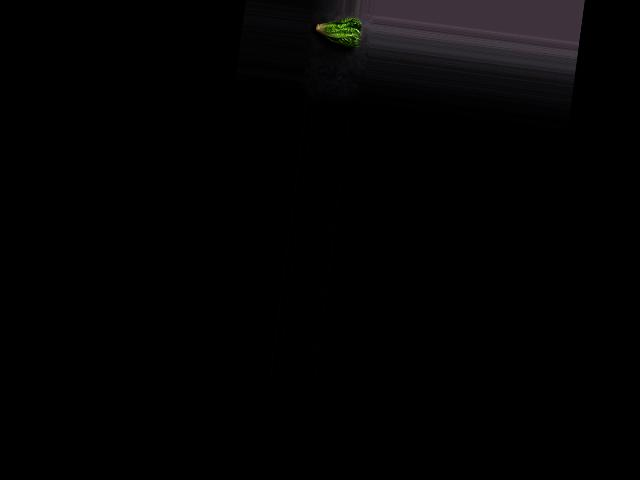lettuce: (310, 11, 363, 50)
